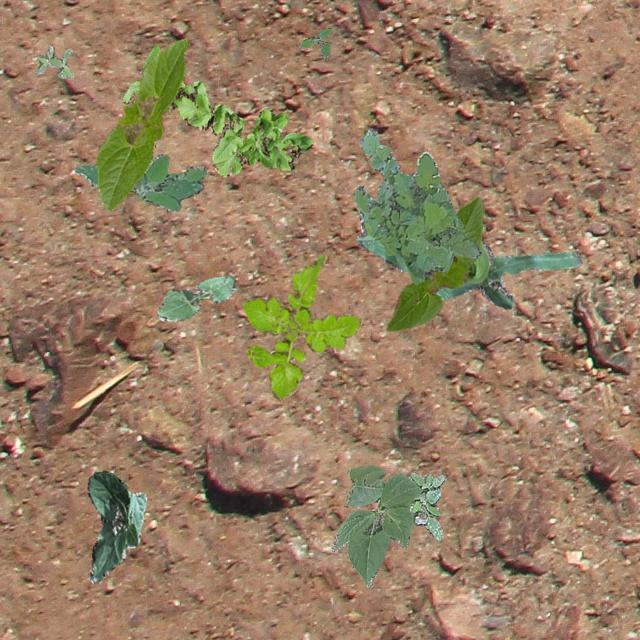crop: (356, 194, 580, 308), (95, 38, 187, 208), (386, 196, 484, 330), (330, 463, 422, 588), (86, 470, 146, 582), (156, 274, 234, 320)
weed: (120, 44, 312, 176), (354, 126, 481, 282), (240, 253, 360, 399), (74, 154, 206, 210), (406, 472, 446, 540), (34, 44, 72, 78), (298, 26, 330, 58)
